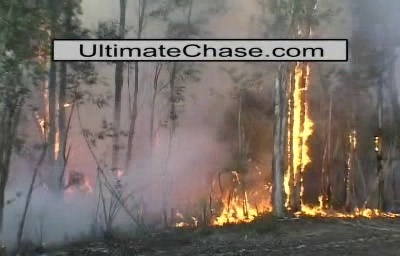fire: (282, 63, 316, 211)
